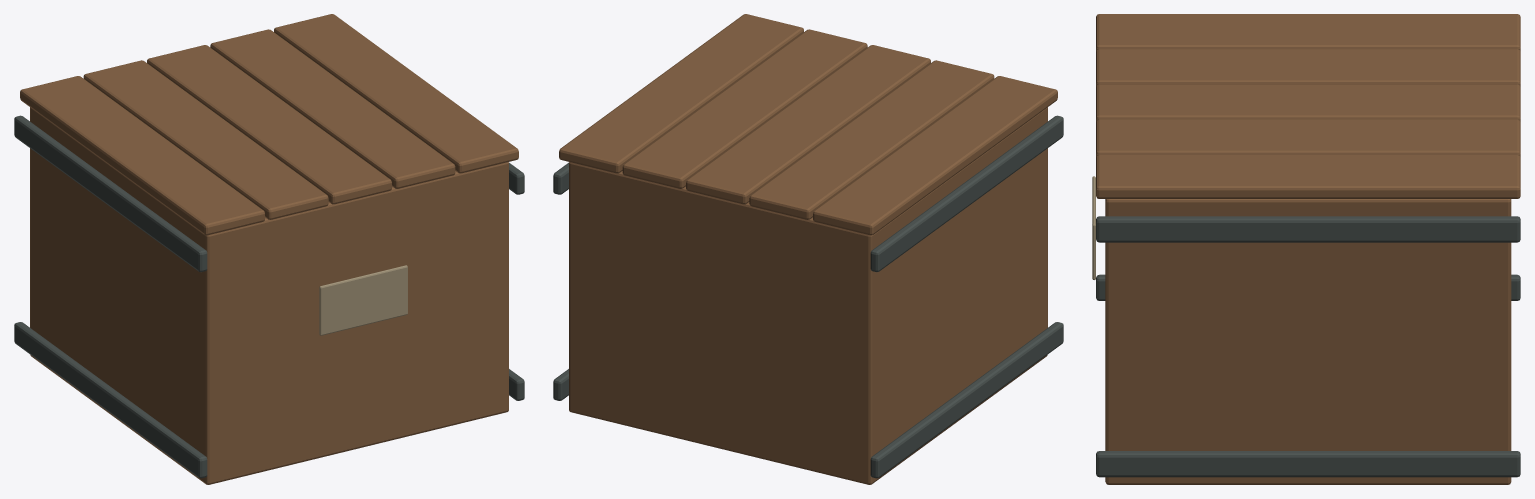
File: archive-crate.fbx
3 views of the same model, side by side, from view 1: azimuth 30°, elevation 25°; view 2: azimuth 150°, elevation 25°; view 3: azimuth 270°, elevation 25° (orthographic). The views are drawn at different scales.
Parts seen in each view (by area): view 1: Crate core, Lid plank, Lid plank.001, Lid plank.003, Lid plank.002, Lid plank.004, Crate strap.002, Crate strap, Inventory label; view 2: Crate core, Lid plank, Lid plank.001, Lid plank.003, Lid plank.002, Lid plank.004, Crate strap.002, Crate strap; view 3: Crate core, Lid plank.004, Lid plank, Lid plank.001, Lid plank.002, Lid plank.003, Crate strap.001, Crate strap.003, Crate strap.
Part boxes in pixels (x1,y1,x2,y2): Crate core: [30, 107, 508, 484]; Lid plank: [20, 76, 264, 235]; Lid plank.001: [83, 60, 328, 219]; Lid plank.003: [210, 29, 455, 188]; Lid plank.002: [147, 45, 391, 204]; Lid plank.004: [274, 14, 518, 173]; Crate strap.002: [14, 115, 207, 272]; Crate strap: [14, 322, 207, 478]; Inventory label: [319, 265, 407, 335]; Crate core: [569, 107, 1047, 484]; Lid plank: [813, 76, 1057, 235]; Lid plank.001: [749, 60, 994, 219]; Lid plank.003: [622, 29, 867, 188]; Lid plank.002: [686, 45, 930, 204]; Lid plank.004: [559, 14, 803, 173]; Crate strap.002: [870, 115, 1063, 272]; Crate strap: [870, 322, 1063, 478]; Crate core: [1105, 199, 1511, 484]; Lid plank.004: [1096, 155, 1520, 198]; Lid plank: [1096, 14, 1520, 51]; Lid plank.001: [1096, 49, 1520, 86]; Lid plank.002: [1096, 84, 1520, 121]; Lid plank.003: [1096, 119, 1520, 157]; Crate strap.001: [1096, 451, 1520, 477]; Crate strap.003: [1096, 216, 1520, 242]; Crate strap: [1096, 274, 1520, 300].
Size of the model in its own units: 0.9 by 0.7 by 0.9.
